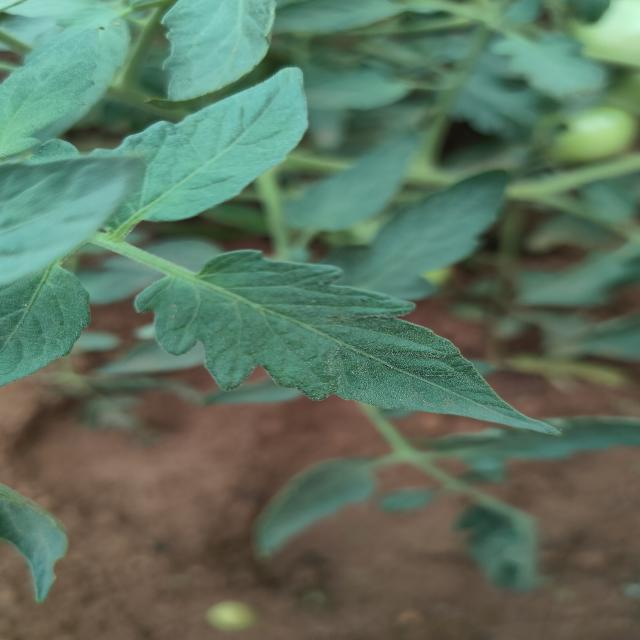tomato_healthy: (133, 247, 556, 436)
